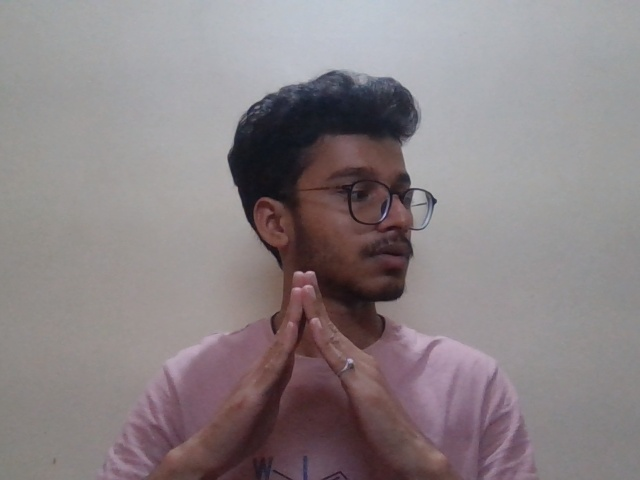home: (222, 261, 414, 460)
